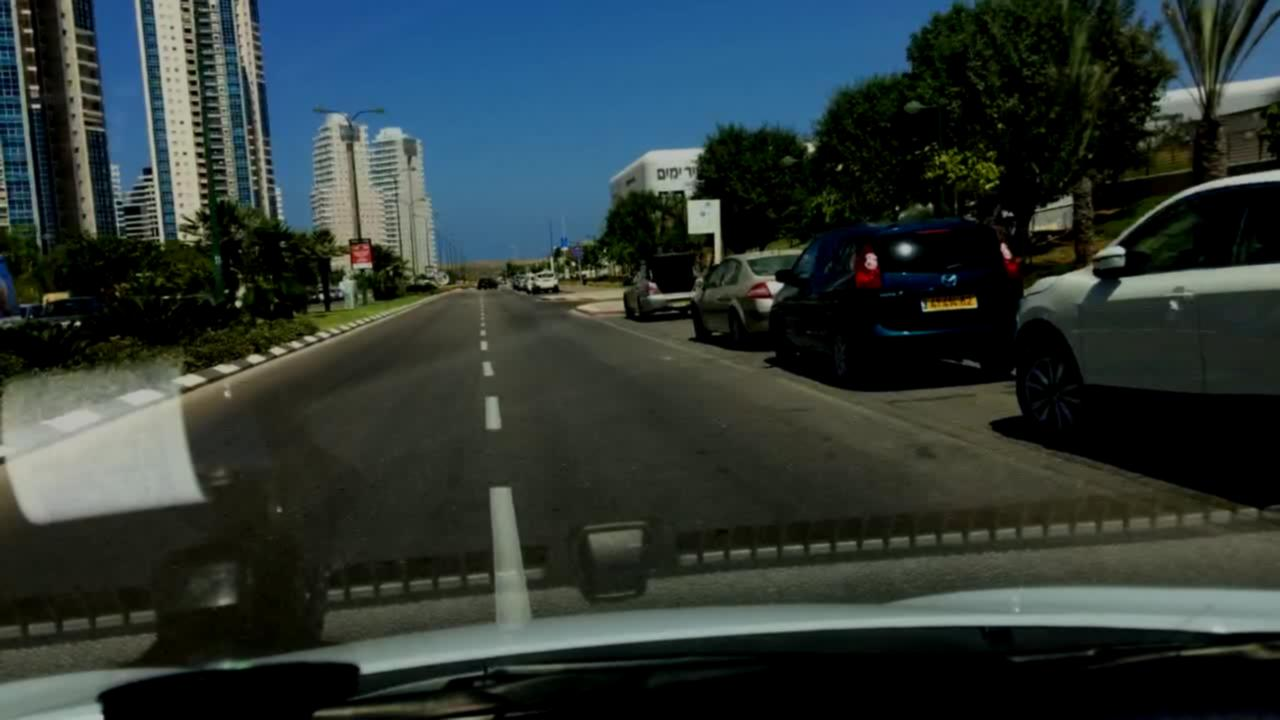Mazda: (939, 272, 960, 289)
